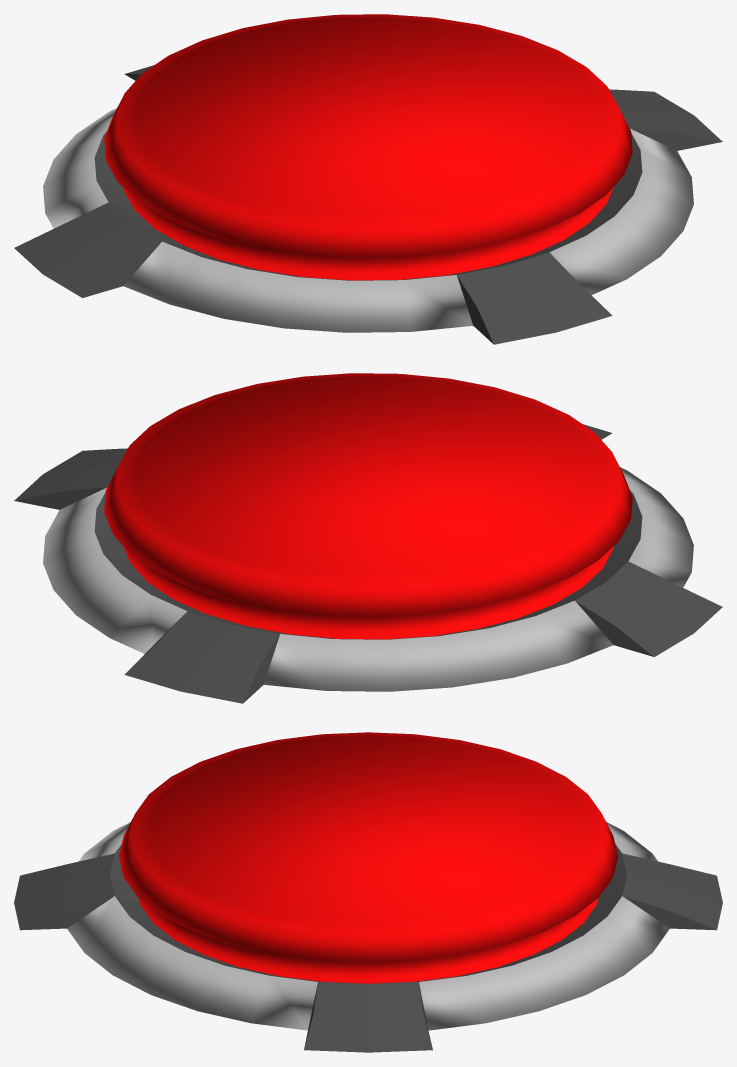
File: Button.fbx
The picture shows the model from 3 angles, top to bottom: view 1: azimuth 30°, elevation 25°; view 2: azimuth 150°, elevation 25°; view 3: azimuth 270°, elevation 25°; orthographic projection. The views are drawn at different scales.
Parts seen in each view (by area): view 1: Button; view 2: Button; view 3: Button.
Boxes of the visible parts, x1,y1,x2,y2 form: Button: [14, 14, 722, 344]; Button: [14, 373, 722, 703]; Button: [14, 732, 722, 1052].
Size of the model in its own units: 231 by 26.67 by 231.
